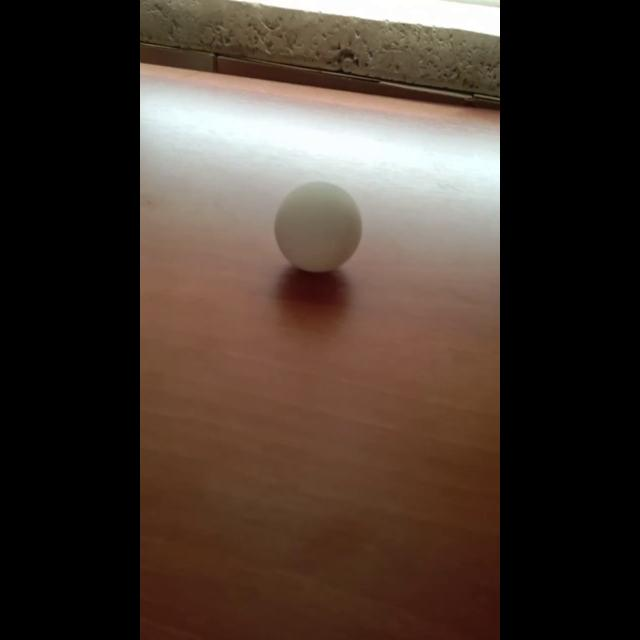white ball: (274, 180, 362, 272)
